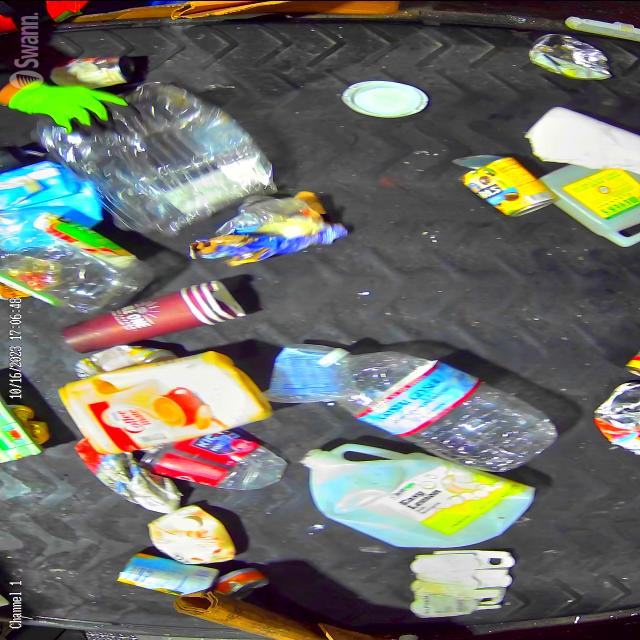can: (454, 151, 552, 217), (598, 376, 640, 461), (524, 31, 608, 73)
milk_jug: (300, 448, 530, 552)
non_white_jug: (56, 354, 256, 462), (0, 164, 91, 243), (116, 552, 218, 598)
plastic_bottle: (316, 345, 548, 467), (5, 251, 149, 301)
